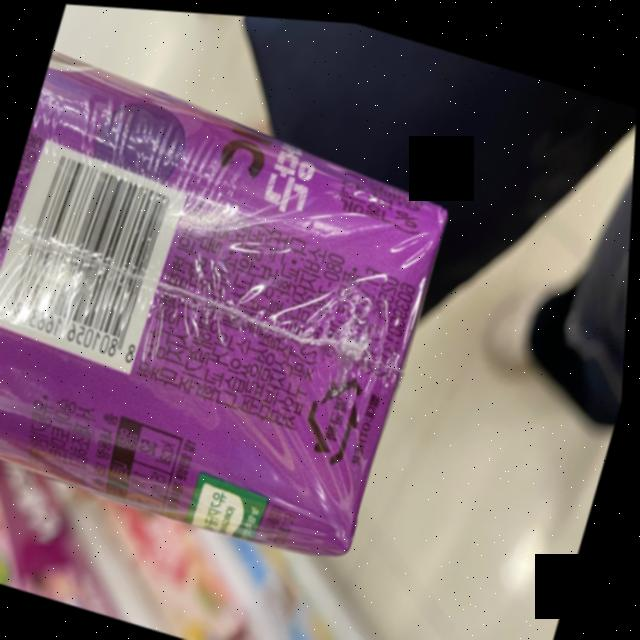SterilizedPack: (297, 356, 376, 469)
